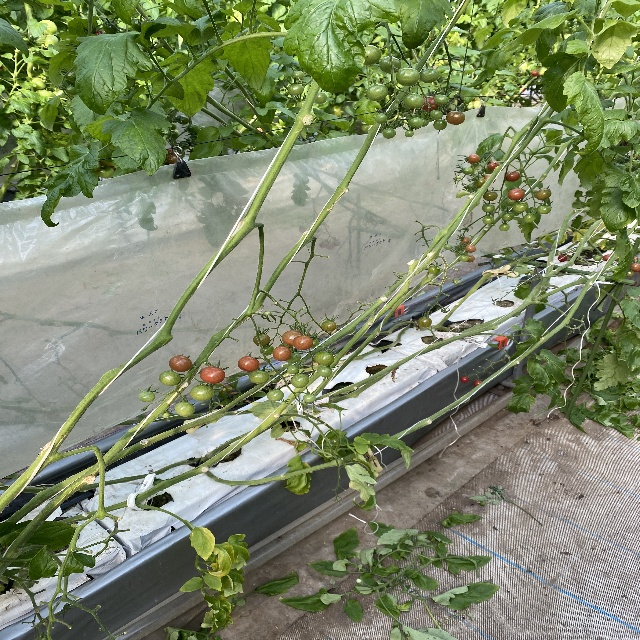l_fully_ripened: (200, 366, 226, 384), (420, 96, 441, 113), (238, 356, 260, 371), (505, 171, 521, 182), (487, 161, 500, 170), (473, 380, 483, 387), (460, 376, 470, 383)
l_green: (396, 68, 420, 86), (379, 56, 402, 74), (190, 385, 214, 402), (366, 84, 389, 101), (363, 45, 381, 65), (419, 67, 440, 84), (403, 93, 424, 110), (174, 401, 196, 417), (159, 371, 182, 386), (248, 369, 270, 384), (314, 351, 335, 366), (291, 374, 309, 388), (253, 333, 271, 346), (285, 350, 301, 364), (266, 390, 284, 402), (138, 391, 155, 403), (316, 366, 333, 378), (512, 201, 529, 213), (288, 84, 304, 96), (408, 117, 424, 129), (433, 94, 449, 106), (483, 190, 498, 201), (315, 91, 327, 104), (260, 345, 274, 356), (382, 128, 396, 139), (433, 119, 447, 130), (537, 204, 552, 214), (375, 113, 388, 124), (429, 110, 443, 120), (501, 212, 515, 222), (481, 203, 495, 213), (505, 197, 519, 206), (292, 71, 304, 81), (428, 265, 440, 275), (524, 213, 536, 223), (286, 365, 299, 374), (303, 394, 316, 403), (482, 216, 495, 224), (420, 117, 429, 127), (462, 167, 473, 175), (499, 223, 510, 231), (297, 100, 306, 109), (459, 254, 469, 262), (405, 130, 414, 137), (162, 412, 170, 418), (281, 401, 287, 405), (457, 176, 462, 179)
l_half_ripened: (168, 355, 193, 372), (282, 330, 304, 346), (273, 345, 292, 362), (293, 336, 314, 350), (446, 110, 465, 125), (508, 188, 525, 201), (535, 188, 552, 201), (417, 317, 432, 328), (321, 321, 337, 331), (467, 154, 480, 164), (474, 178, 486, 188), (465, 244, 477, 253), (467, 255, 475, 262)
